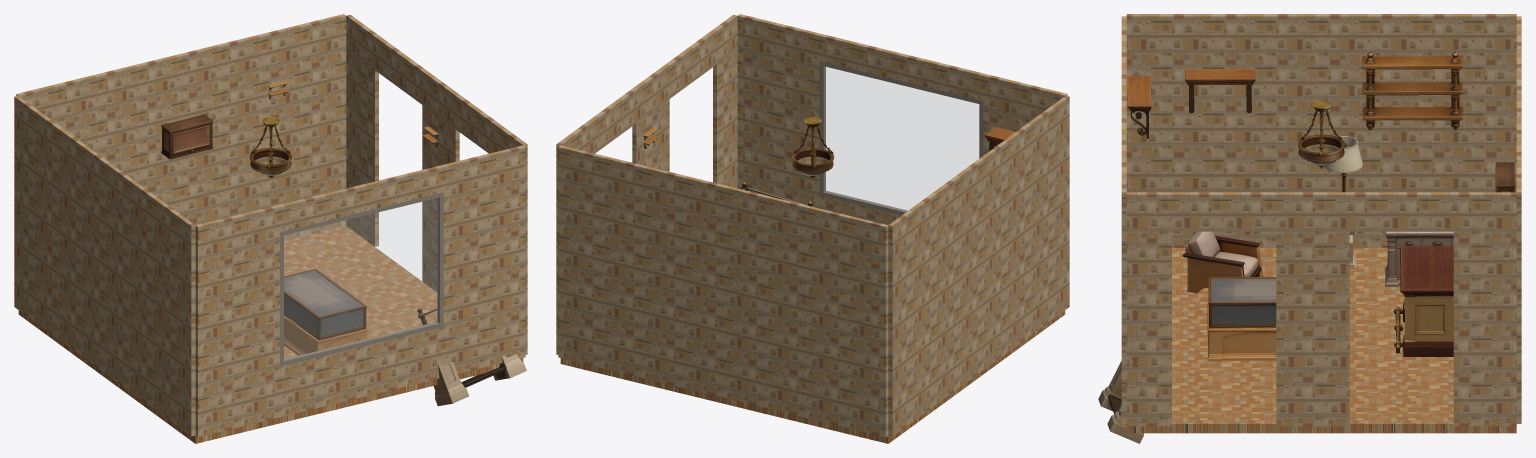
The model's file is european-sales-a.glb.
The picture shows the model from 3 angles, left to right: view 1: azimuth 30°, elevation 25°; view 2: azimuth 150°, elevation 25°; view 3: azimuth 270°, elevation 25°; orthographic projection. The views are drawn at different scales.
Visible parts, largest first — view 1: geometry_0.004, geometry_0.002, geometry_0.003, glass, geometry_0.001, geometry_0, geometry_0.008, frame, geometry_0.010, geometry_0.005, geometry_0.017; view 2: geometry_0.002, geometry_0.003, geometry_0.004, glass, geometry_0.001, geometry_0, frame, geometry_0.017; view 3: geometry_0.003, geometry_0.001, geometry_0, geometry_0.006, geometry_0.008, geometry_0.007, geometry_0.012, geometry_0.002, geometry_0.004, geometry_0.020, geometry_0.017, geometry_0.013 (+4 smaller).
Part boxes in pixels (<box>): geometry_0.004: <box>195,145,525,437</box>; geometry_0.002: <box>16,14,346,241</box>; geometry_0.003: <box>14,95,195,436</box>; glass: <box>284,198,437,359</box>; geometry_0.001: <box>346,14,527,354</box>; geometry_0: <box>18,226,523,443</box>; geometry_0.008: <box>284,268,368,355</box>; frame: <box>280,192,443,366</box>; geometry_0.010: <box>417,308,526,406</box>; geometry_0.005: <box>161,114,213,159</box>; geometry_0.017: <box>249,117,291,177</box>; geometry_0.002: <box>558,145,888,437</box>; geometry_0.003: <box>888,95,1069,436</box>; geometry_0.004: <box>737,14,1067,225</box>; glass: <box>825,67,978,210</box>; geometry_0.001: <box>556,14,737,354</box>; geometry_0: <box>560,310,1065,443</box>; frame: <box>819,61,983,215</box>; geometry_0.017: <box>792,117,834,177</box>; geometry_0.003: <box>1126,14,1516,247</box>; geometry_0.001: <box>1126,192,1516,426</box>; geometry_0: <box>1126,248,1516,433</box>; geometry_0.006: <box>1393,246,1453,356</box>; geometry_0.008: <box>1207,277,1276,361</box>; geometry_0.007: <box>1362,51,1463,130</box>; geometry_0.012: <box>1183,231,1263,293</box>; geometry_0.002: <box>1516,16,1521,423</box>; geometry_0.004: <box>1121,16,1126,423</box>; geometry_0.020: <box>1385,231,1453,287</box>; geometry_0.017: <box>1298,100,1344,167</box>; geometry_0.013: <box>1185,69,1255,113</box>.
Size of the model in its own units: 4.6 by 3.15 by 4.56.
Materials: 16 (14 with a texture image).
